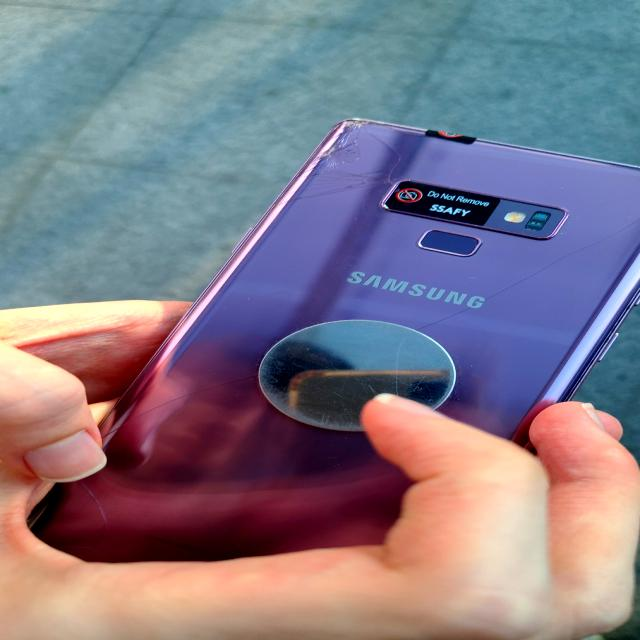phone: (43, 113, 640, 569)
sticker: (385, 180, 502, 226)
